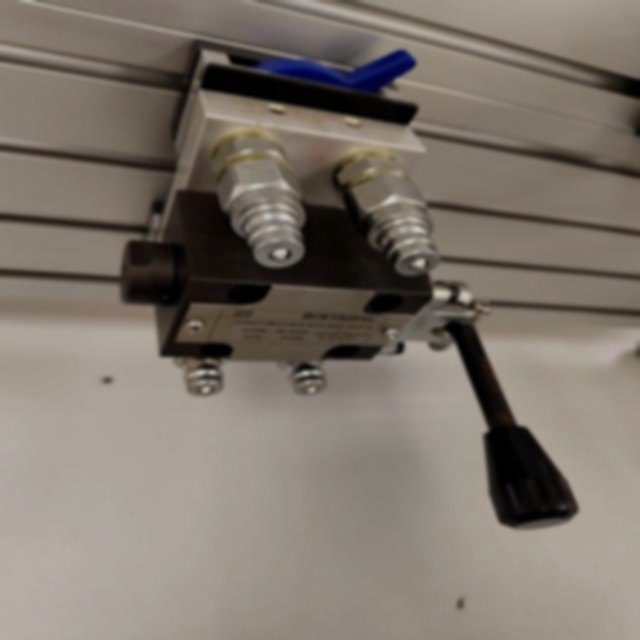4by3 hand lever valve: (108, 27, 600, 541)
